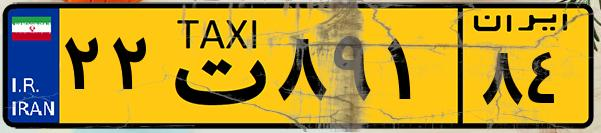1: (385, 28, 445, 110)
2: (57, 26, 110, 100), (110, 28, 158, 98)
4: (525, 38, 570, 115)
8: (270, 28, 330, 110), (475, 38, 525, 113)
9: (330, 28, 385, 110)
ت: (158, 12, 270, 120)
